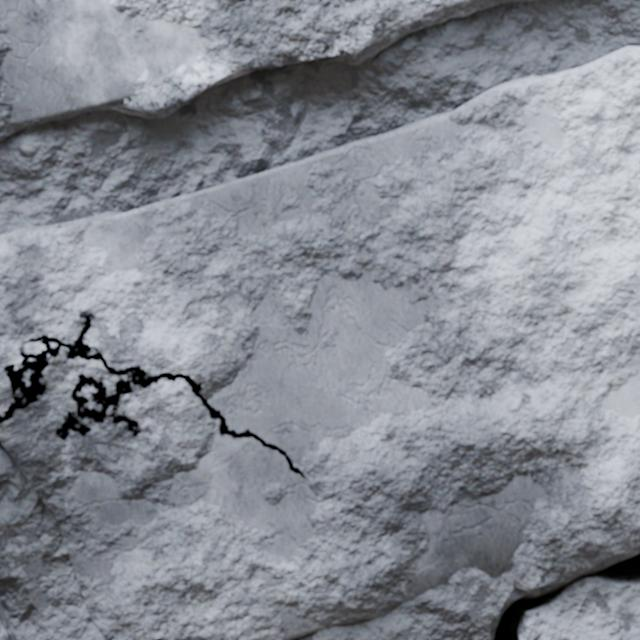broken_brick: (624, 633, 639, 639)
crack: (0, 46, 639, 639), (0, 0, 536, 140), (0, 602, 16, 639)
